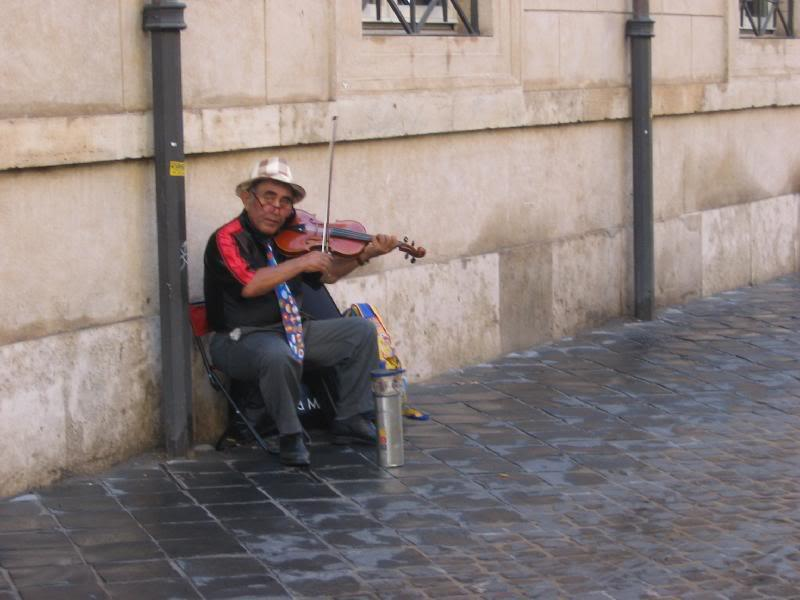person: (202, 159, 400, 463)
